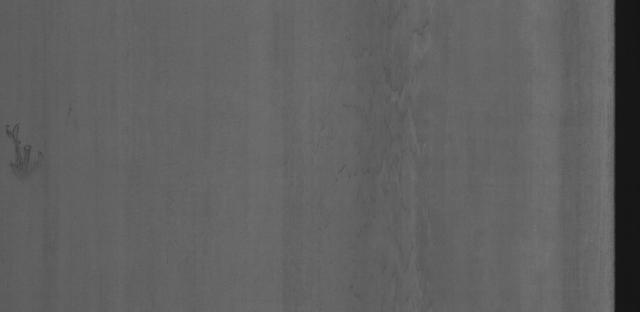silk_spot: (326, 50, 460, 275)
water_spot: (5, 117, 60, 189)
